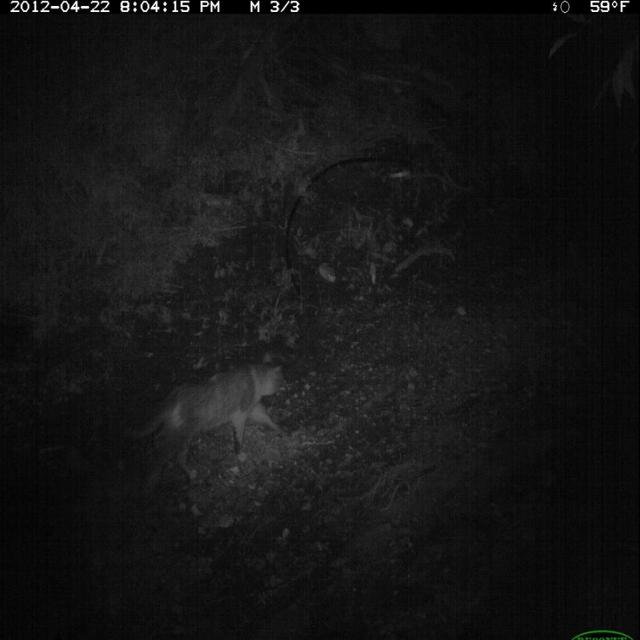cat: (115, 343, 294, 503)
